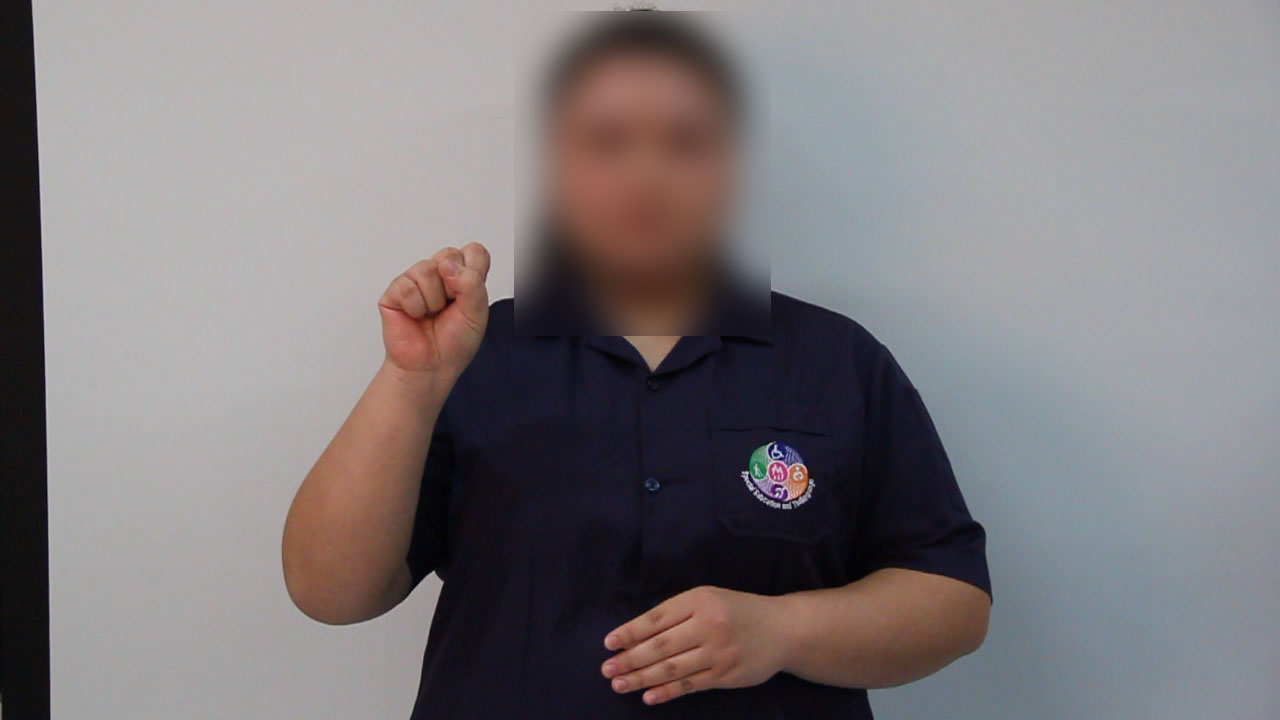sor: (369, 228, 508, 386)
